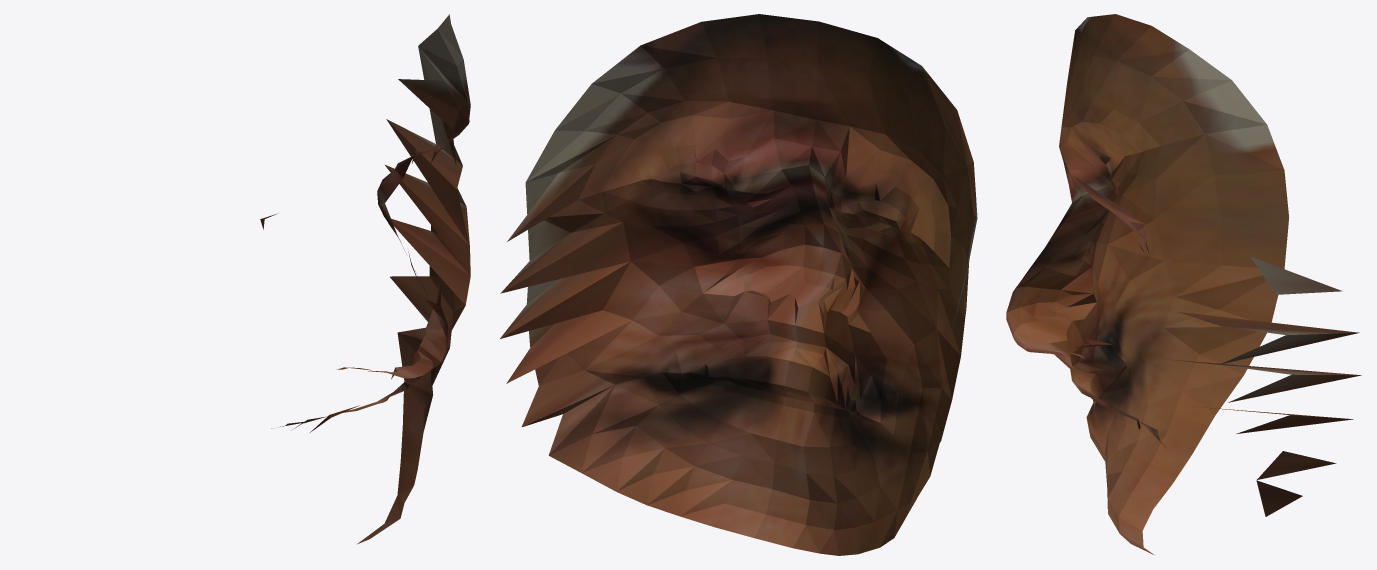
File: fabio-small.glb
3 renders of one model, left to right at view 1: azimuth 30°, elevation 25°; view 2: azimuth 150°, elevation 25°; view 3: azimuth 270°, elevation 25°, orthographic. The views are drawn at different scales.
Parts seen in each view (by area): view 1: geometry_0; view 2: geometry_0; view 3: geometry_0.
Part boxes in pixels (<box>): geometry_0: <box>260,14,470,544</box>; geometry_0: <box>500,14,977,555</box>; geometry_0: <box>1006,14,1361,554</box>.
Size of the model in its own units: 876 by 1019 by 684.
Materials: 1 (1 with a texture image).
